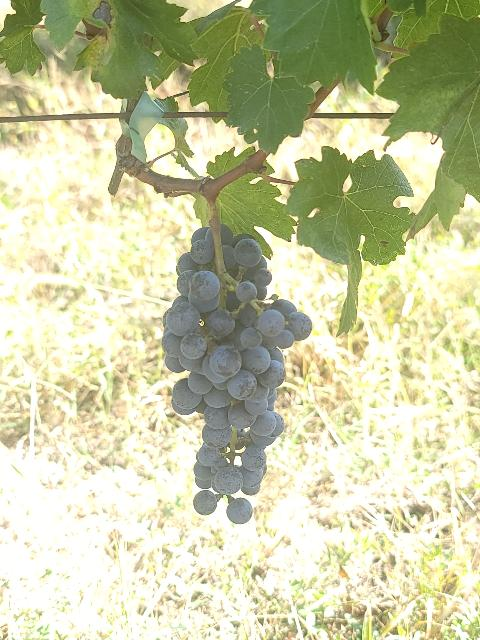grapes: (161, 225, 312, 524)
